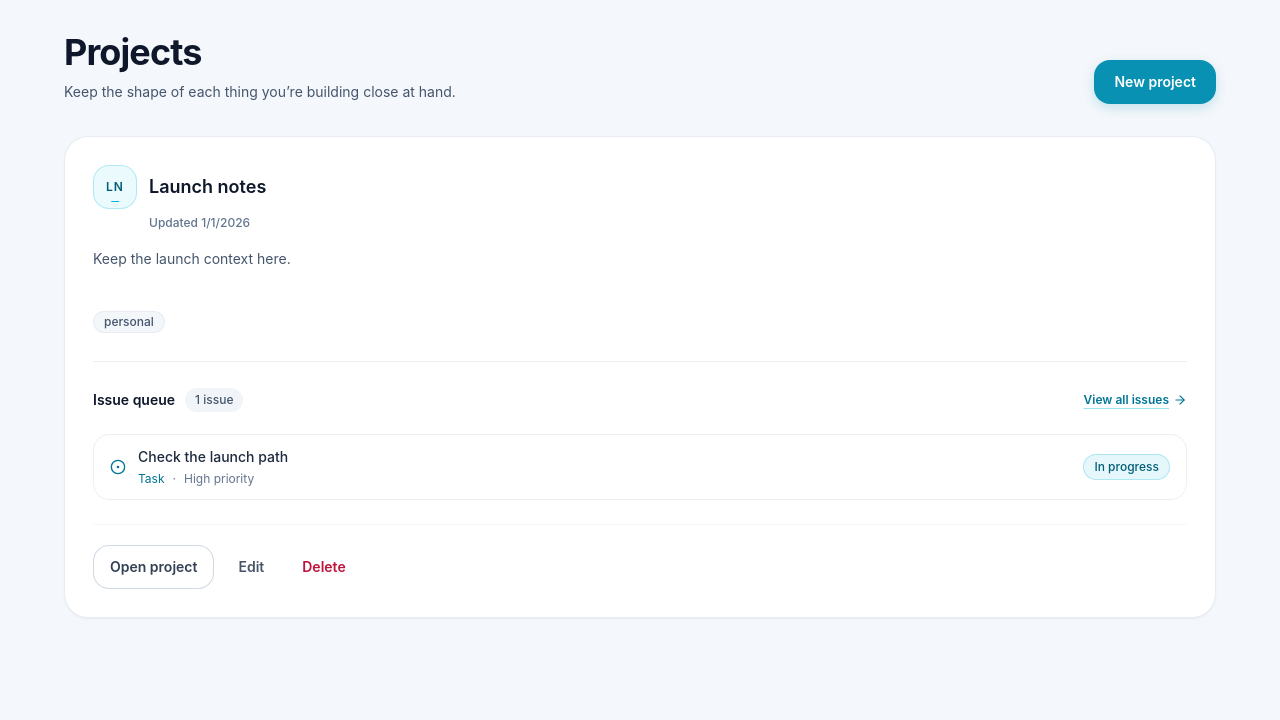
ProjectsPage › edits an existing project through the service boundary
The image size is (1280, 720).
Expected: the link "Launch notes" is shown, [149,176,266,197]
Click the button "Edit" at (251, 567), box [224,545,278,589]
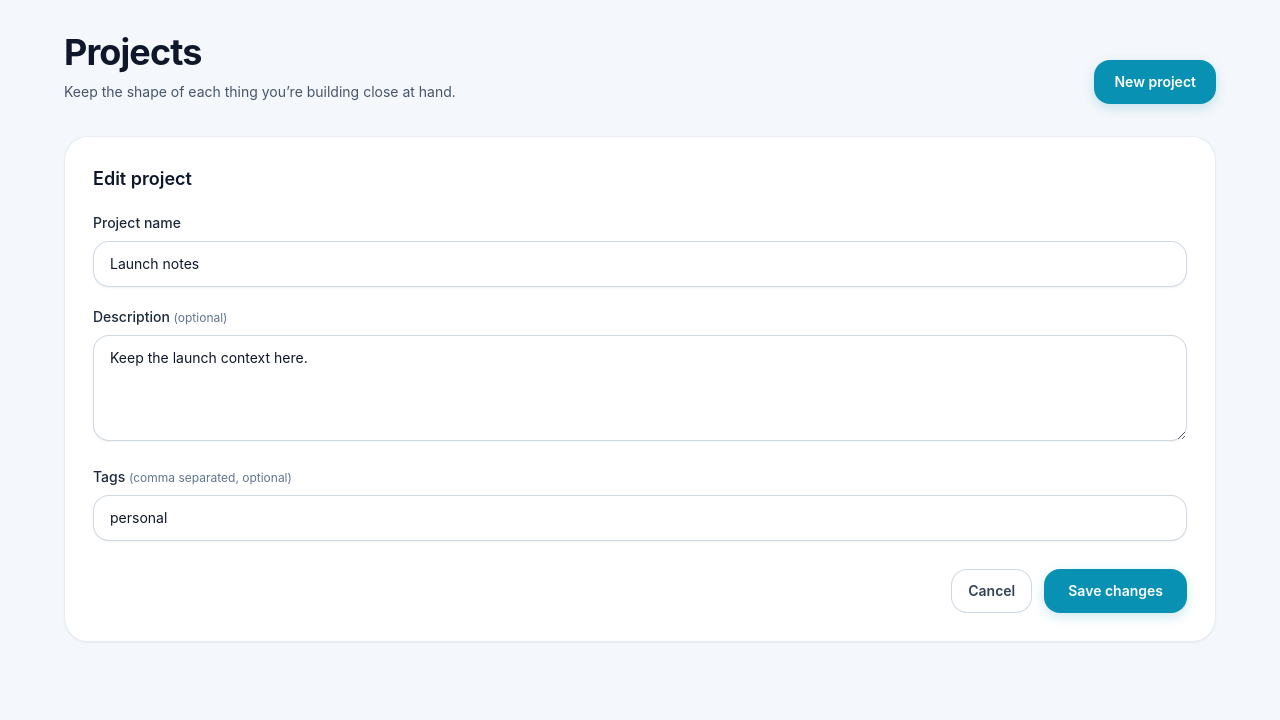
Replace the text in the field labelled "Project name" with "Launch plan" at (640, 264), box [93,241,1187,287]
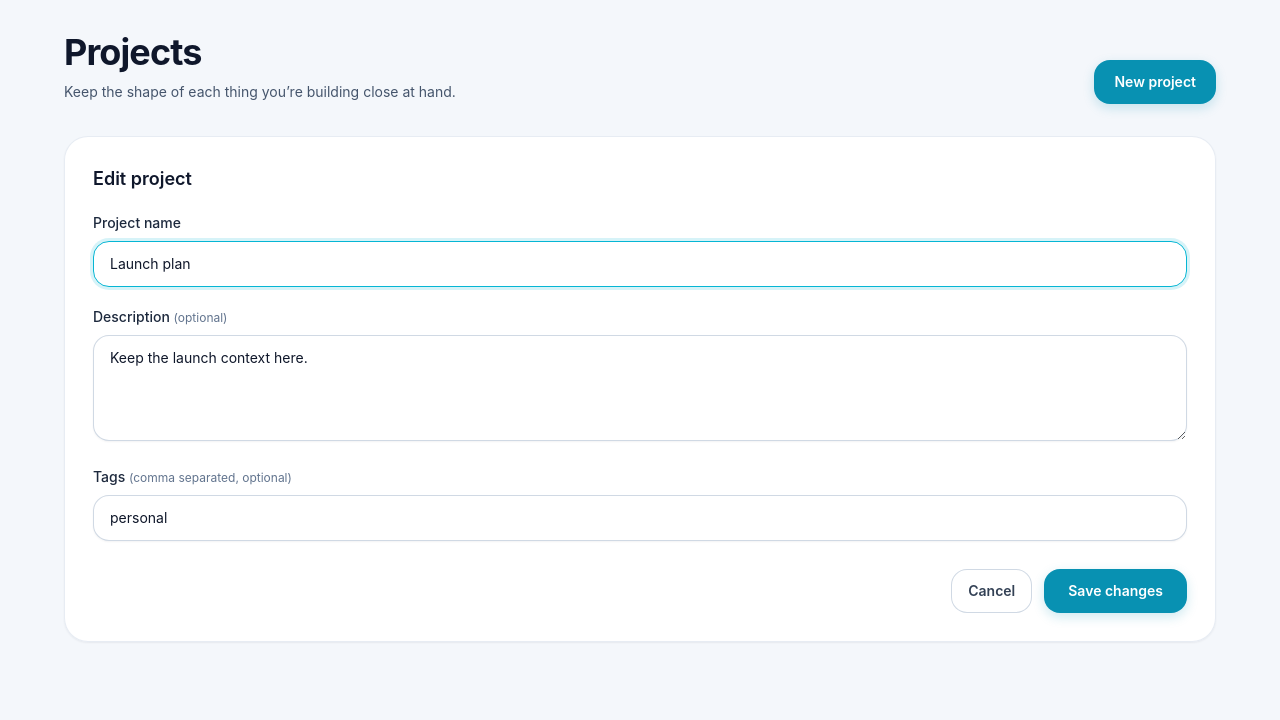
Click the button "Save changes" at (1116, 591), box [1044,569,1187,613]
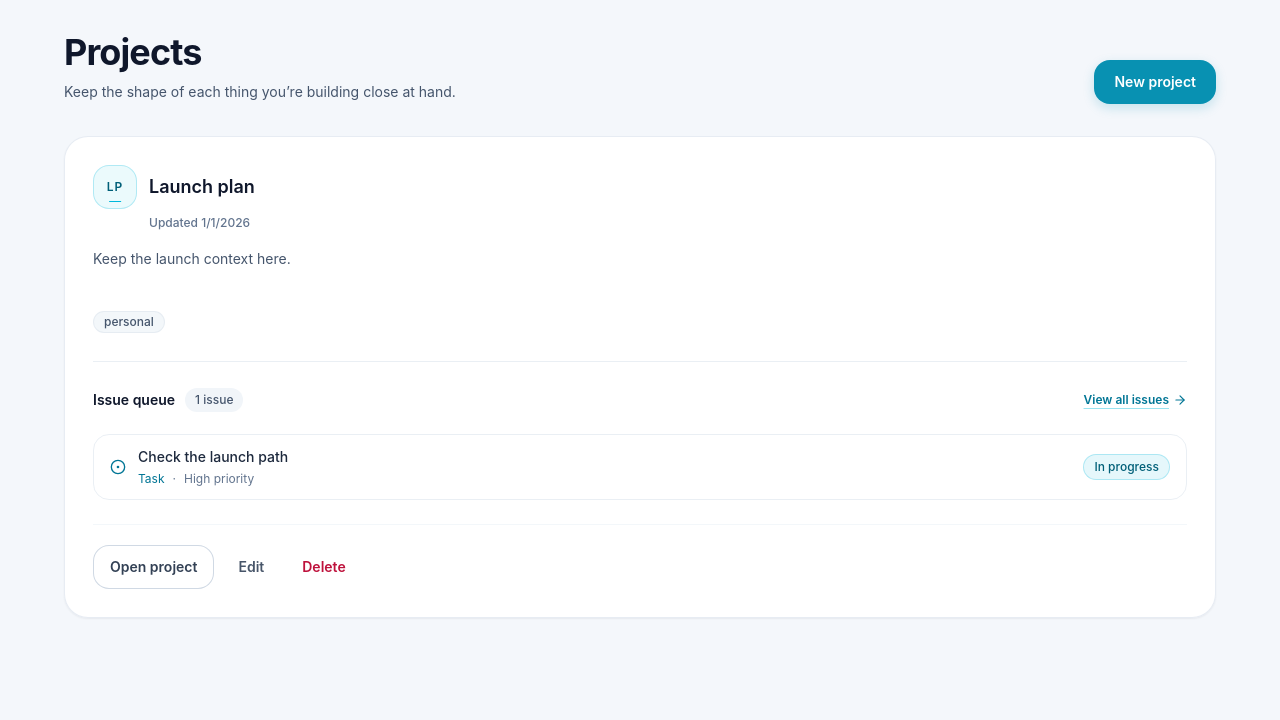
Expected: the link "Launch plan" is shown, [149,176,255,197]
